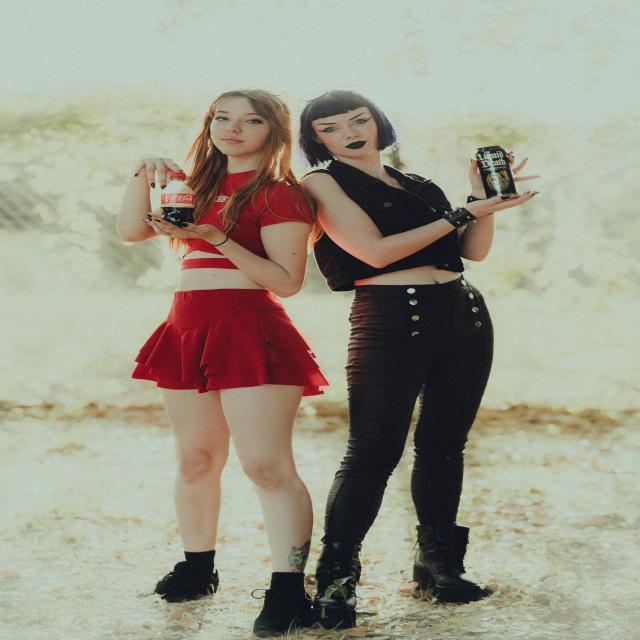bottle: (161, 172, 195, 228)
can: (474, 145, 521, 199)
